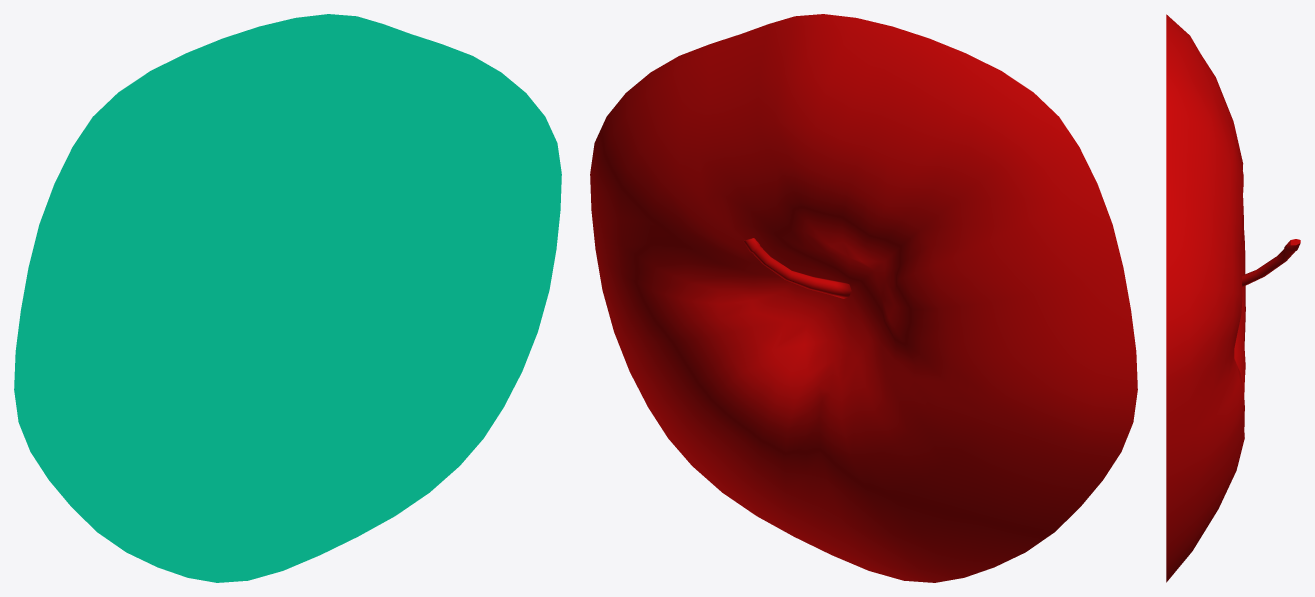
3 views of the same model, side by side, from view 1: azimuth 30°, elevation 25°; view 2: azimuth 150°, elevation 25°; view 3: azimuth 270°, elevation 25° (orthographic). The views are drawn at different scales.
Parts seen in each view (by area): view 1: 37_00; view 2: 37_00; view 3: 37_00.
Part boxes in pixels (x1,y1,x2,y2): 37_00: (14, 14, 561, 582); 37_00: (590, 14, 1137, 582); 37_00: (1166, 14, 1300, 582).
Bounding box in the file's own units: 446 × 429 × 105.
